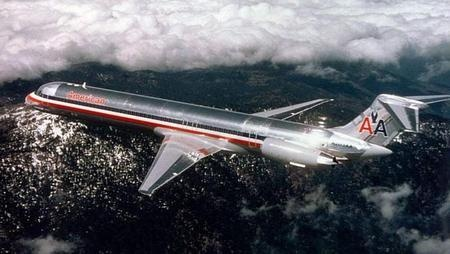airplane: (23, 77, 421, 176)
